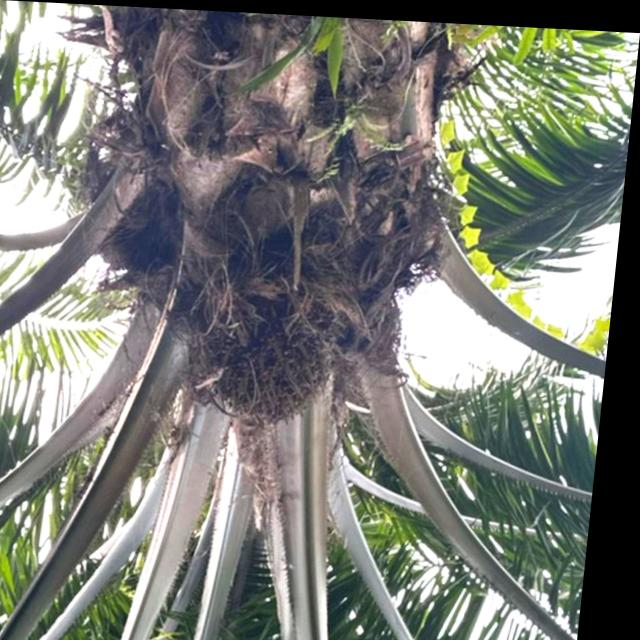ripe: (204, 305, 350, 427)
